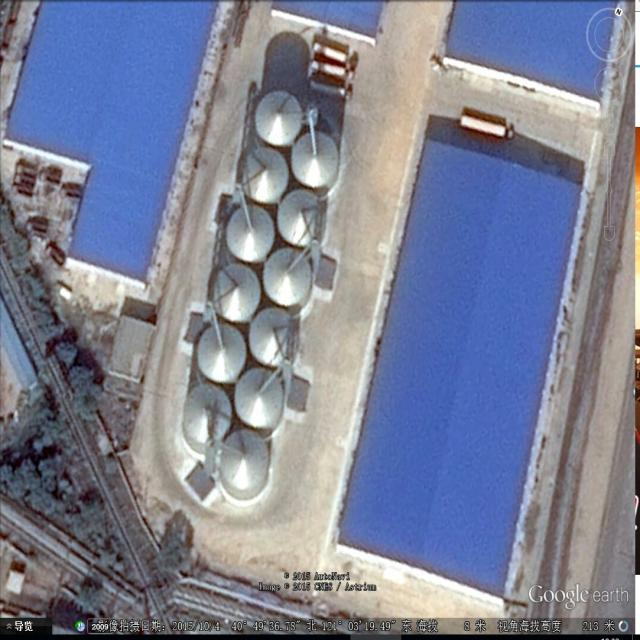oiltank: (214, 424, 274, 504), (233, 362, 290, 439), (180, 380, 236, 457), (261, 245, 319, 318), (243, 303, 302, 373), (273, 183, 331, 253), (194, 318, 250, 388), (207, 261, 263, 328), (222, 202, 278, 268), (288, 126, 343, 193), (250, 86, 308, 149), (236, 145, 293, 208)
